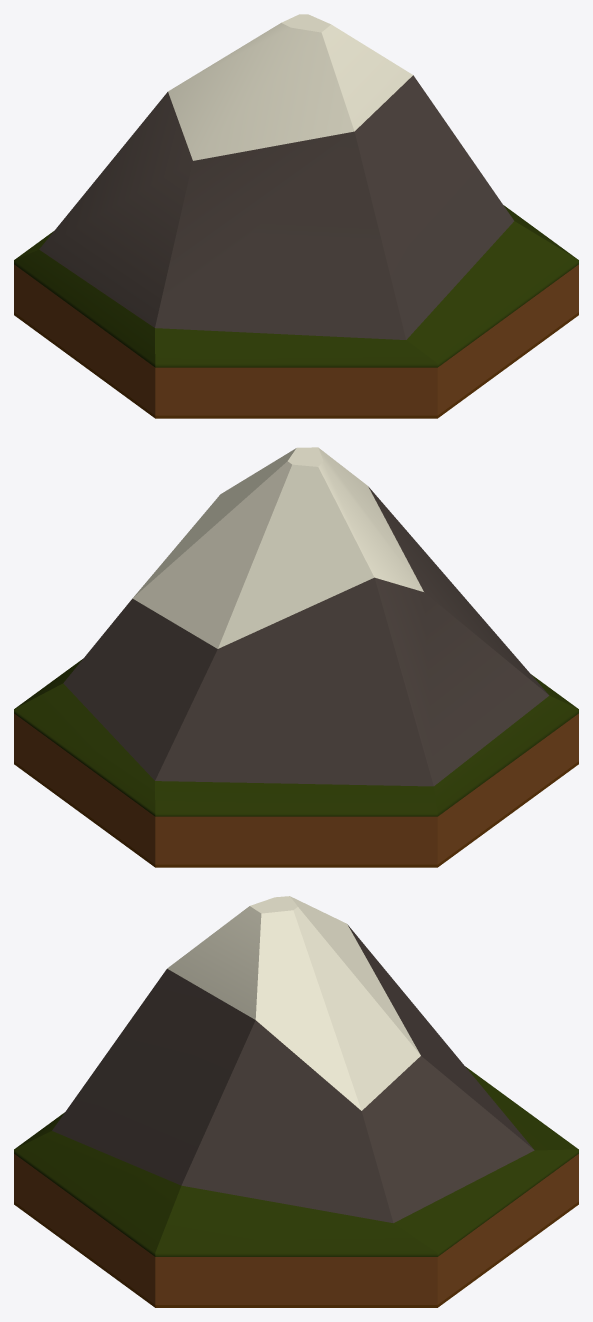
File: mountain.fbx
3 views of the same model, one above another, from view 1: azimuth 30°, elevation 25°; view 2: azimuth 150°, elevation 25°; view 3: azimuth 270°, elevation 25° (orthographic).
Parts seen in each view (by area): view 1: pCylinder2; view 2: pCylinder2; view 3: pCylinder2.
Part boxes in pixels (<box>): pCylinder2: <box>14,14,578,418</box>; pCylinder2: <box>14,447,578,867</box>; pCylinder2: <box>14,896,578,1307</box>.
Bounding box in the file's own units: 1.73 × 1.17 × 2.
